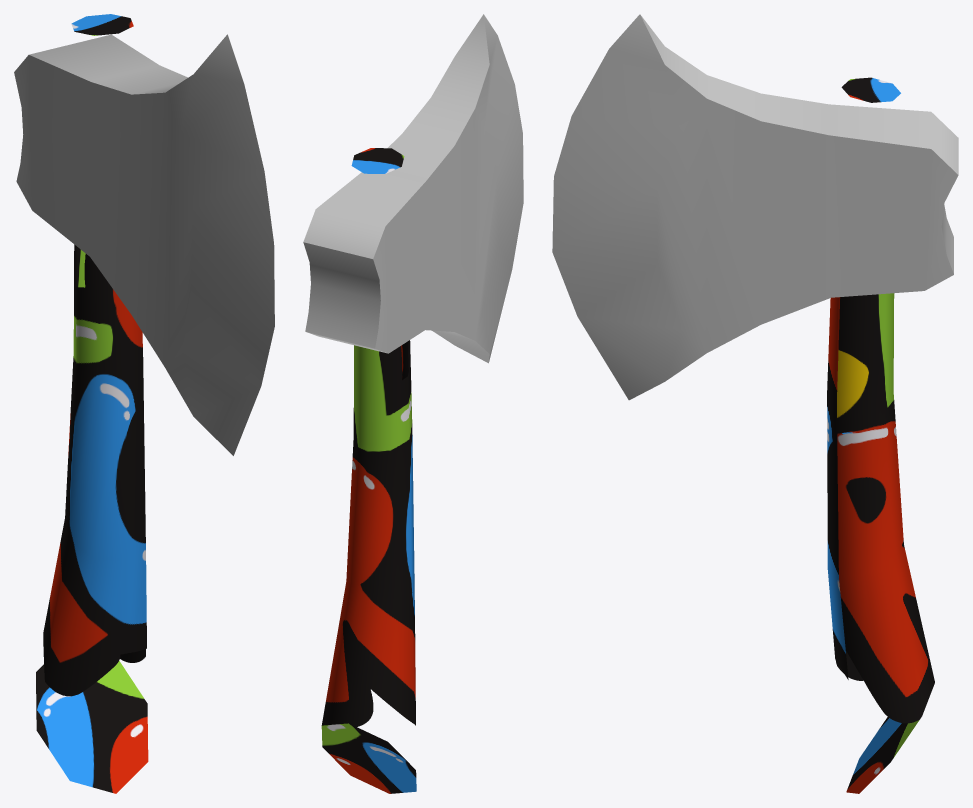
The model's file is Axe.fbx.
3 views of the same model, side by side, from view 1: azimuth 30°, elevation 25°; view 2: azimuth 150°, elevation 25°; view 3: azimuth 270°, elevation 25° (orthographic). The views are drawn at different scales.
Parts seen in each view (by area): view 1: Axe; view 2: Axe; view 3: Axe.
Part boxes in pixels (left/top/right/bottom): Axe: left=14, top=14, right=274, bottom=793; Axe: left=303, top=14, right=523, bottom=793; Axe: left=552, top=14, right=958, bottom=793.
Size of the model in its own units: 1.41 by 10.22 by 4.83.
